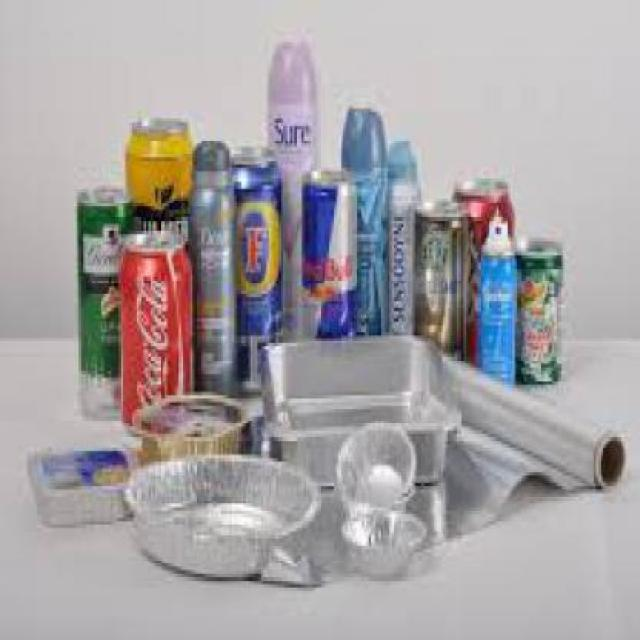METAL: (212, 423, 602, 549), (253, 335, 459, 483), (429, 357, 622, 489), (120, 451, 318, 577), (75, 186, 139, 420), (119, 231, 192, 420), (232, 144, 280, 388), (266, 102, 316, 336), (453, 175, 515, 360), (188, 172, 234, 388), (26, 444, 142, 521), (130, 392, 248, 466), (302, 168, 355, 332), (126, 111, 194, 238), (415, 199, 468, 356), (334, 416, 412, 507), (514, 238, 560, 385), (336, 507, 427, 578), (354, 172, 386, 328), (384, 178, 416, 329), (476, 241, 512, 374)
